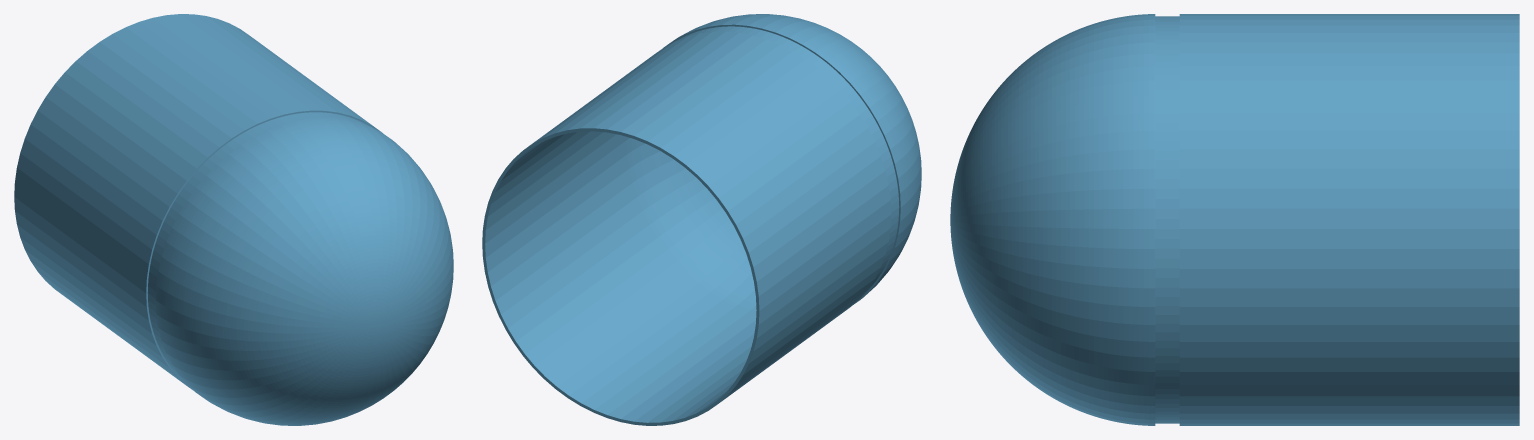
Rendered from capsule_cap.glb.
3 renders of one model, left to right at view 1: azimuth 30°, elevation 25°; view 2: azimuth 150°, elevation 25°; view 3: azimuth 270°, elevation 25°, orthographic. The views are drawn at different scales.
Visible parts, largest first — view 1: world; view 2: world; view 3: world.
Boxes of the visible parts, x1,y1,x2,y2 form: world: [14, 14, 453, 425]; world: [482, 14, 921, 425]; world: [950, 14, 1519, 425].
Size of the model in its own units: 0.00855 by 0.00855 by 0.0118.
